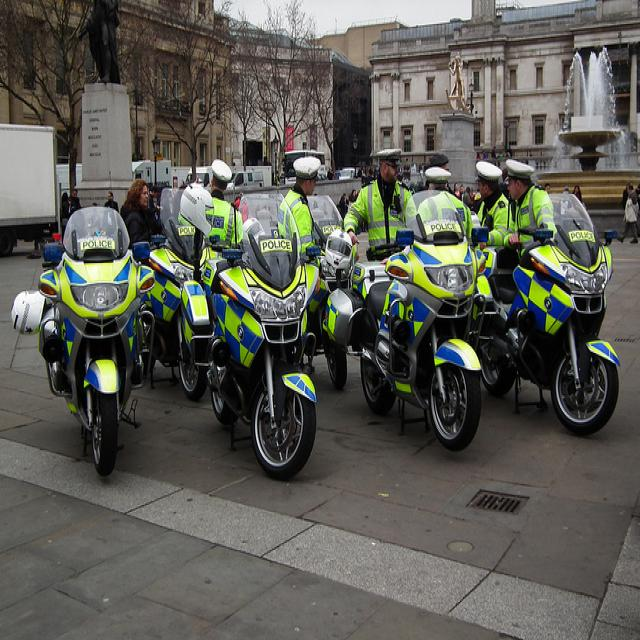motor: (181, 193, 322, 475), (10, 209, 157, 476), (458, 196, 621, 436), (323, 189, 493, 399), (149, 187, 215, 401), (305, 194, 345, 245), (467, 208, 495, 246)
